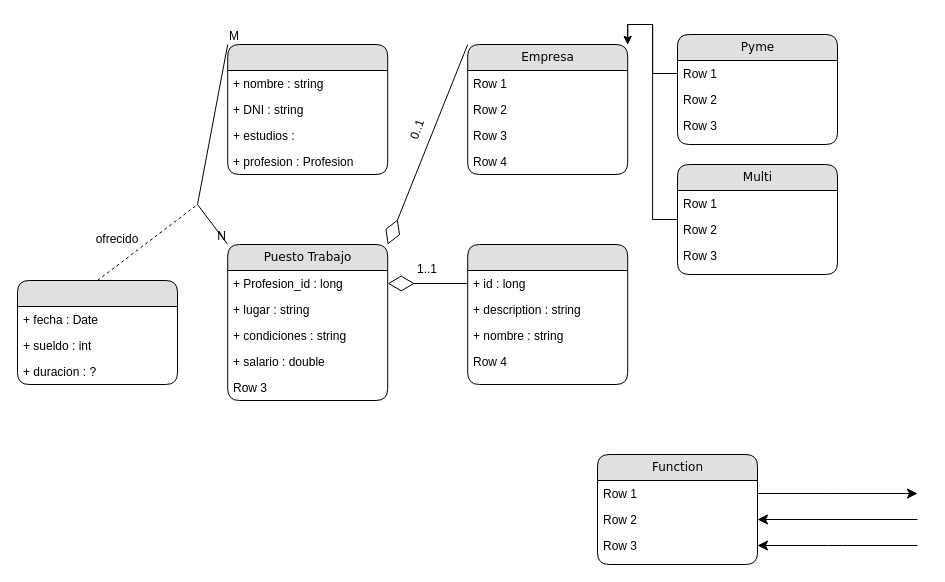
Image size: 945x582. Some labels were removed from this diagram. Here are the shapes that lost their labels. From the top down, the box of each, then its label:
(227, 44, 388, 174): Persona
(16, 280, 178, 384): Contrato
(467, 244, 628, 384): Profesion
